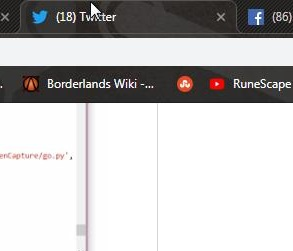cursor: (90, 1, 102, 19)
